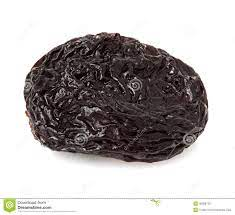raisin: (25, 33, 209, 164)
